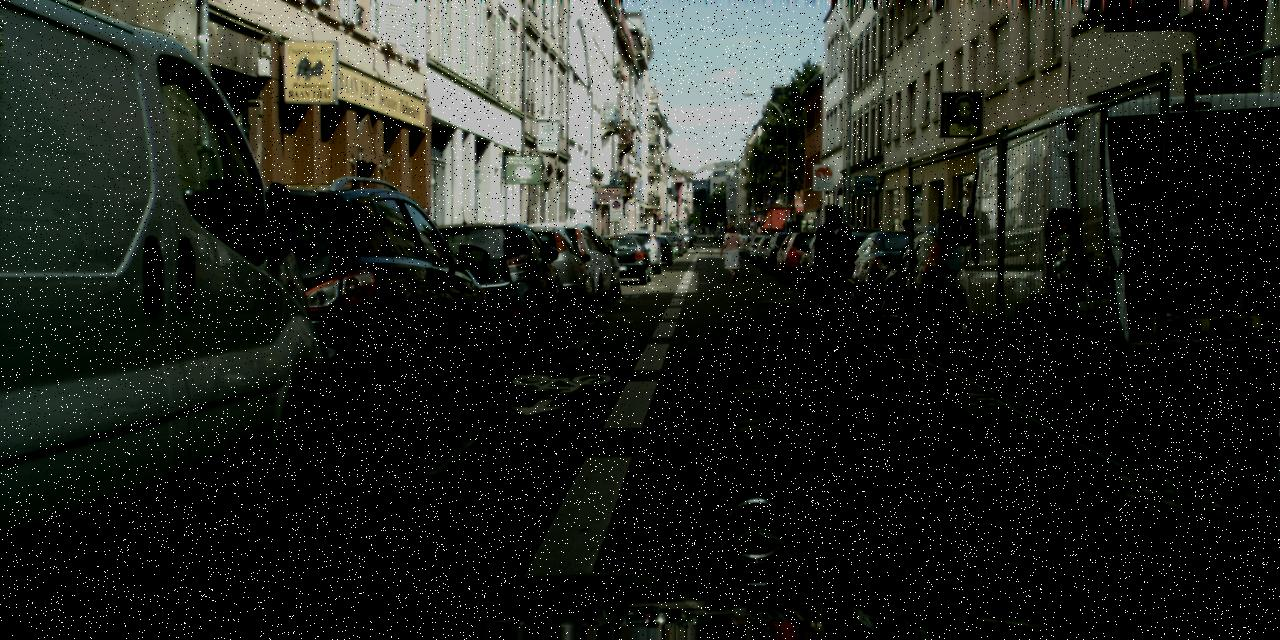ped: (810, 204, 859, 324), (892, 219, 917, 279), (718, 222, 742, 282)
